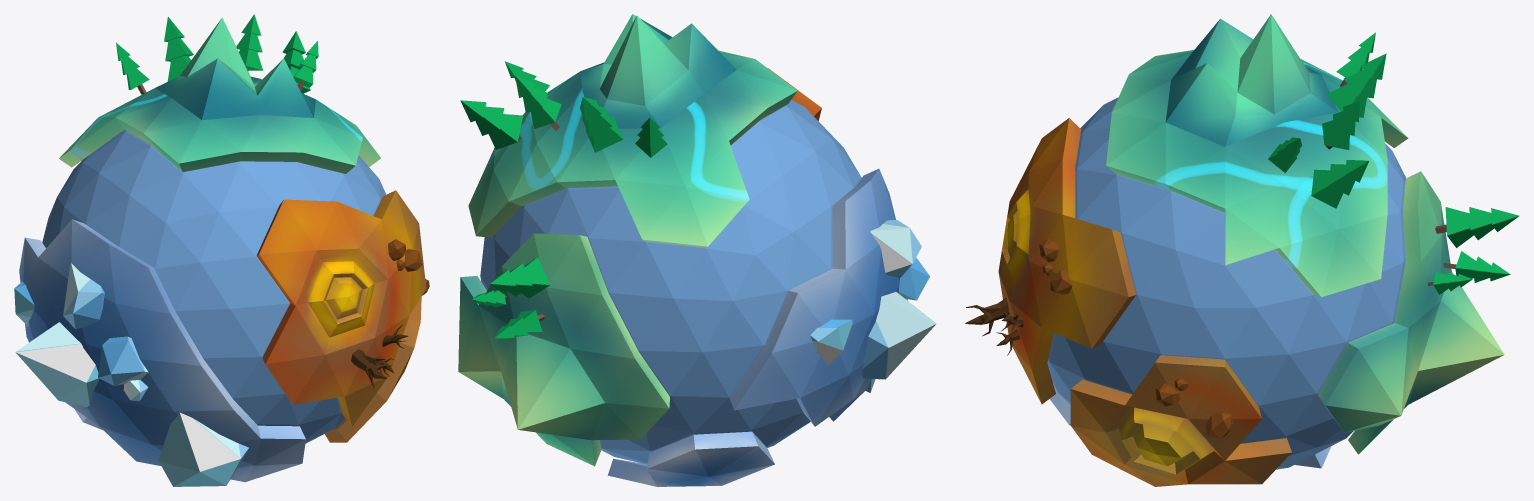
File: Planet.fbx
The picture shows the model from 3 angles, left to right: view 1: azimuth 30°, elevation 25°; view 2: azimuth 150°, elevation 25°; view 3: azimuth 270°, elevation 25°; orthographic projection. The views are drawn at different scales.
Parts seen in each view (by area): view 1: Icosphere.011; view 2: Icosphere.011; view 3: Icosphere.011.
Boxes of the visible parts, x1=… form: Icosphere.011: x1=14, y1=14, x2=429, y2=486; Icosphere.011: x1=458, y1=14, x2=936, y2=486; Icosphere.011: x1=965, y1=14, x2=1519, y2=486.
Bounding box in the file's own units: 227 × 227 × 245.
